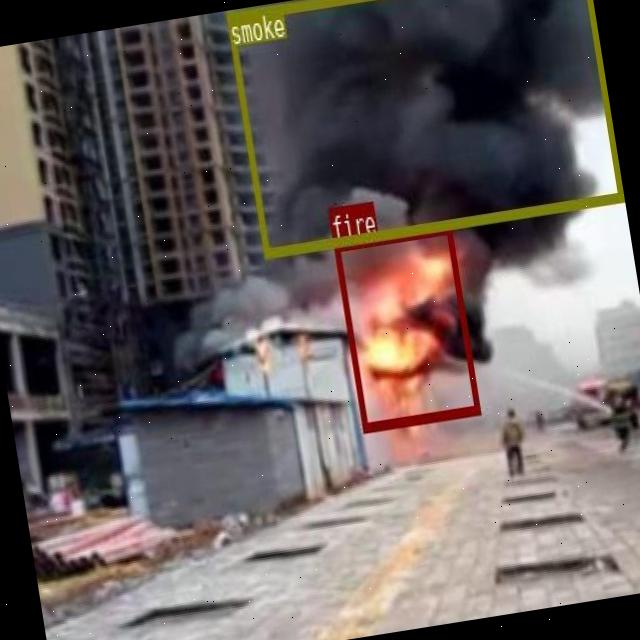fire: (332, 224, 479, 431)
smoke: (225, 0, 622, 256)
